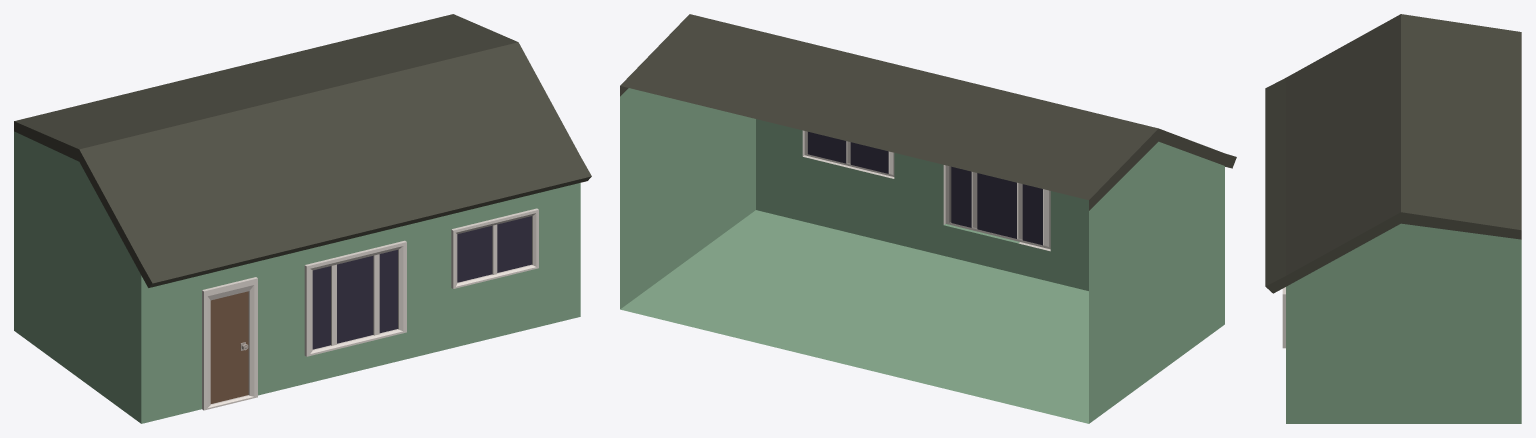
Rendered from House1.fbx.
The picture shows the model from 3 angles, left to right: view 1: azimuth 30°, elevation 25°; view 2: azimuth 150°, elevation 25°; view 3: azimuth 270°, elevation 25°; orthographic projection. The views are drawn at different scales.
Visible parts, largest first — view 1: Cube.001; view 2: Cube.001; view 3: Cube.001.
Boxes of the visible parts, x1,y1,x2,y2 form: Cube.001: (14,14,591,423); Cube.001: (620,14,1236,423); Cube.001: (1265,14,1521,423).
Bounding box in the file's own units: 2544 × 1268 × 1390.
